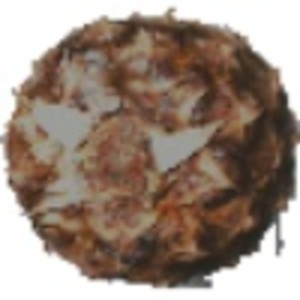abacaxi: (5, 10, 298, 276)
